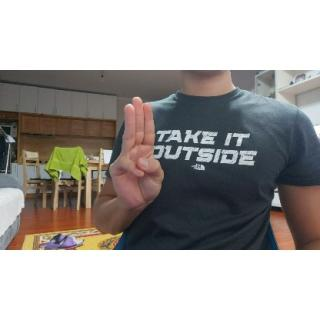THA: (109, 92, 166, 215)
